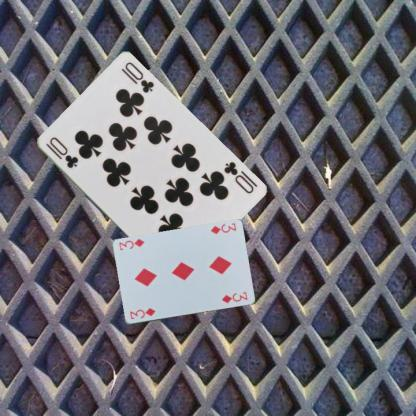10c: (43, 134, 79, 170), (221, 158, 255, 195)
3d: (208, 221, 237, 236), (127, 306, 157, 320)
